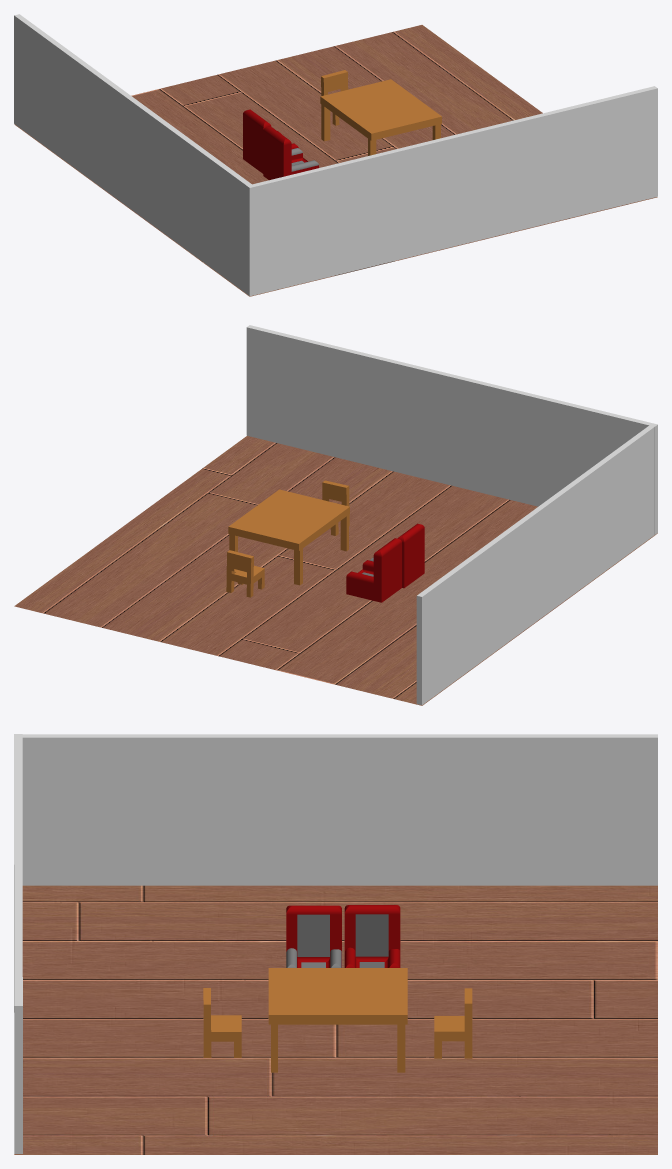
File: LIVING ROOM.glb
3 renders of one model, top to bottom at view 1: azimuth 30°, elevation 25°; view 2: azimuth 150°, elevation 25°; view 3: azimuth 270°, elevation 25°, orthographic. The views are drawn at different scales.
Visible parts, largest first — view 1: Cube.006, Plane, Cube.005, Cube.001, Cube, Cube.002, Cube.003; view 2: Plane, Cube.006, Cube.005, Cube.001, Cube.002, Cube, Cube.003, Cube.004; view 3: Plane, Cube.005, Cube.001, Cube.006, Cube.002, Cube, Cube.003, Cube.004.
Boxes of the visible parts, x1,y1,x2,y2 form: Cube.006: (246,86,657,296); Plane: (14,25,657,296); Cube.005: (14,14,251,293); Cube.001: (320,79,441,155); Cube: (263,126,318,180); Cube.002: (243,109,298,173); Cube.003: (321,70,348,125); Plane: (14,436,657,705); Cube.006: (246,325,657,534); Cube.005: (416,425,654,705); Cube.001: (228,489,349,585); Cube.002: (346,538,401,602); Cube: (370,523,424,588); Cube.003: (226,550,264,597); Cube.004: (322,480,349,535); Plane: (14,885,657,1154); Cube.005: (22,734,657,885); Cube.001: (268,968,407,1072); Cube.006: (14,734,22,1153); Cube.002: (344,905,400,967); Cube: (286,905,341,967); Cube.003: (434,988,472,1058); Cube.004: (203,988,241,1057).
Bounding box in the file's own units: 33.78 × 8.74 × 33.8.
Materials: 9 (1 with a texture image).
